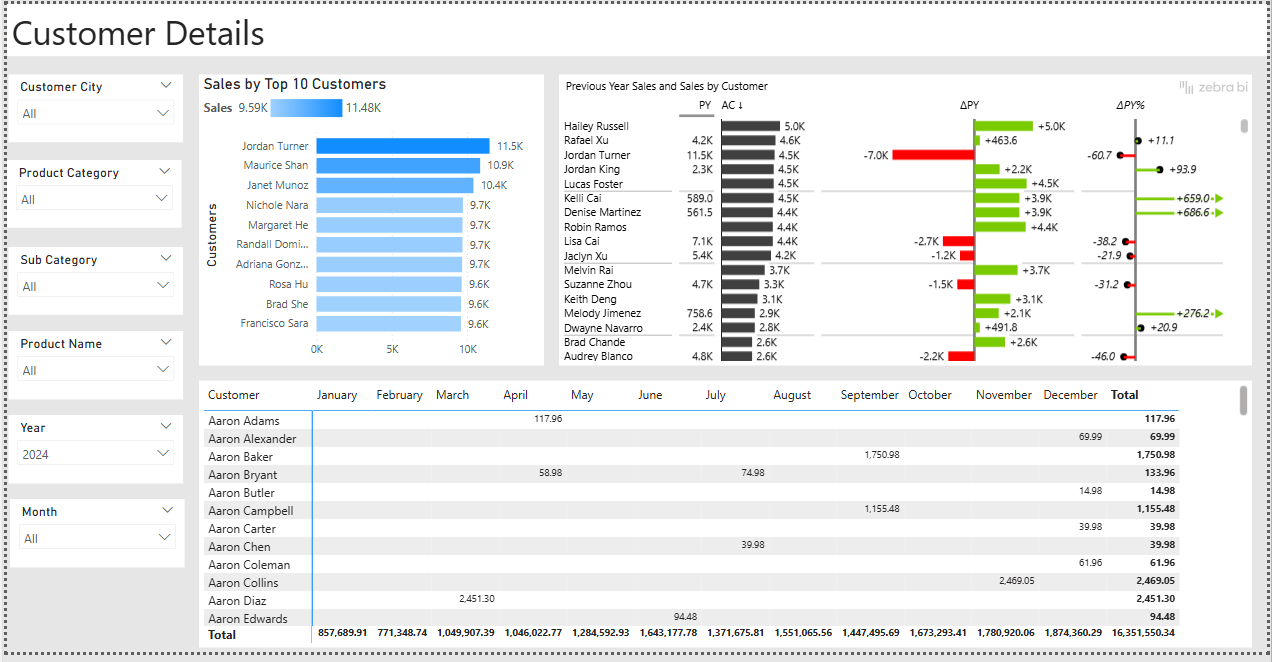

This screenshot's page, from the dashboard's own definition file:
{"tool":"powerbi","page":{"name":"Customer Details","canvas":[1400,720],"ordinal":1},"visuals":[{"type":"textbox","box":[0,0,1500,58],"z":0},{"type":"slicer","fields":{"Values":["DIM_Customers.Customer City"]},"box":[2,78,194,75],"z":1000},{"type":"slicer","fields":{"Values":["Dim_Products.Product Category"]},"box":[0,174,194,75],"z":2000},{"type":"slicer","fields":{"Values":["Dim_Products.Sub Category"]},"box":[2,270,194,75],"z":3000},{"type":"slicer","fields":{"Values":["Dim_Products.Product Name"]},"box":[1.7,363.8,194,75.9],"z":4000},{"type":"slicer","fields":{"Values":["Dim_Calendar.Year"]},"box":[1.7,456.9,194,75.9],"z":5000},{"type":"slicer","fields":{"Values":["Dim_Calendar.Month"]},"box":[3.4,550,194,75.9],"z":6000},{"type":"barChart","title":"Sales by Top 10 Customers","fields":{"Category":["DIM_Customers.Full Name"],"Y":["Key Measures.Sales"]},"box":[213.3,78.3,383.3,323.3],"z":10000},{"type":"ZebraBITablesBAE31B370F254F808553548EFB35BFA5","fields":{"Category":["DIM_Customers.Full Name"],"Values":["Key Measures.Previous Year Sales"],"PreviousYear":["Key Measures.Sales"]},"box":[613.3,78.3,770,323.3],"z":10001},{"type":"pivotTable","fields":{"Rows":["DIM_Customers.Full Name"],"Values":["Key Measures.Sales"],"Columns":["Dim_Calendar.Month"]},"box":[213.3,418.3,1170,296.7],"z":10002}]}

Visuals, with their boxes in screenshot pixels (x1, y1, x2, y2), scaled from the page's 1400x720 canvas onto the 1272x662 screenshot:
textbox: Rect(0, 0, 1271, 53)
slicer - DIM_Customers.Customer City: Rect(2, 72, 178, 141)
slicer - Dim_Products.Product Category: Rect(0, 160, 176, 229)
slicer - Dim_Products.Sub Category: Rect(2, 248, 178, 317)
slicer - Dim_Products.Product Name: Rect(2, 334, 178, 404)
slicer - Dim_Calendar.Year: Rect(2, 420, 178, 490)
slicer - Dim_Calendar.Month: Rect(3, 506, 179, 575)
"Sales by Top 10 Customers" barChart: Rect(194, 72, 542, 369)
ZebraBITablesBAE31B370F254F808553548EFB35BFA5 - DIM_Customers.Full Name x Key Measures.Previous Year Sales: Rect(557, 72, 1257, 369)
pivotTable - DIM_Customers.Full Name x Key Measures.Sales: Rect(194, 385, 1257, 657)
